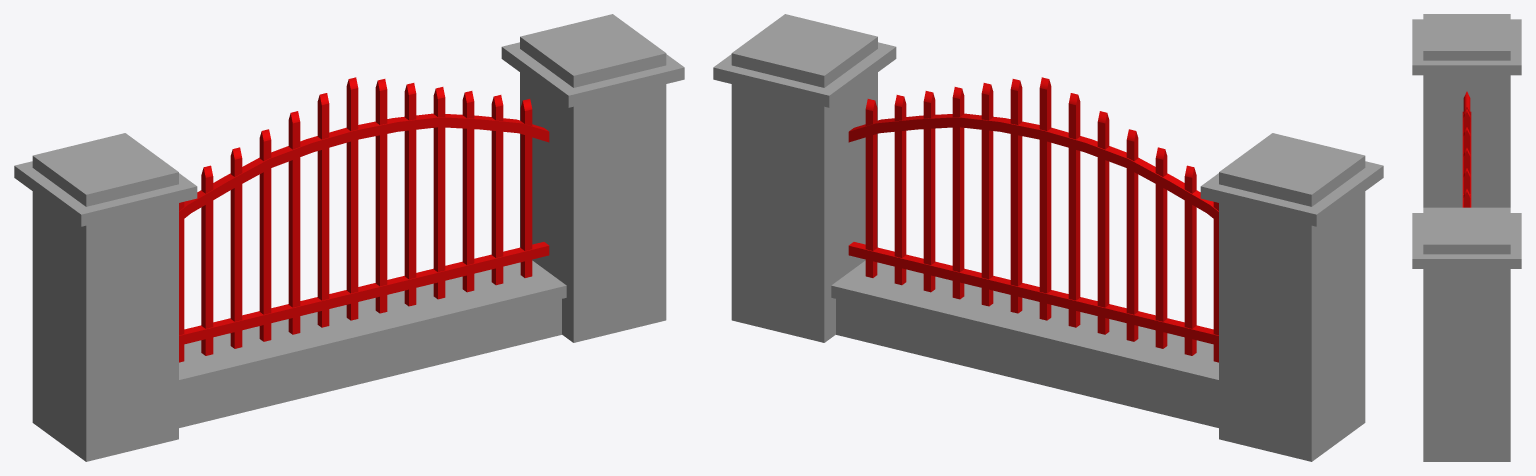
The model's file is GothicFence_NoUV.fbx.
3 views of the same model, side by side, from view 1: azimuth 30°, elevation 25°; view 2: azimuth 150°, elevation 25°; view 3: azimuth 270°, elevation 25° (orthographic). The views are drawn at different scales.
Visible parts, largest first — view 1: GothGraveyardFence; view 2: GothGraveyardFence; view 3: GothGraveyardFence.
Part boxes in pixels (x1,y1,x2,y2): GothGraveyardFence: (14,14,684,461); GothGraveyardFence: (713,14,1383,461); GothGraveyardFence: (1412,14,1521,461).
Bounding box in the file's own units: 728 × 337 × 140.
